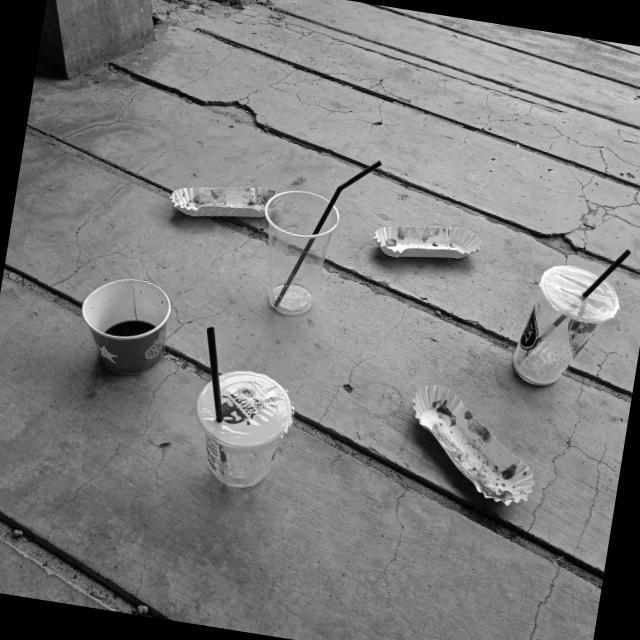recyclable waste: (390, 372, 556, 516), (501, 250, 634, 408), (175, 354, 306, 502), (242, 178, 350, 329), (66, 264, 185, 388), (158, 166, 292, 238), (363, 206, 492, 280)
